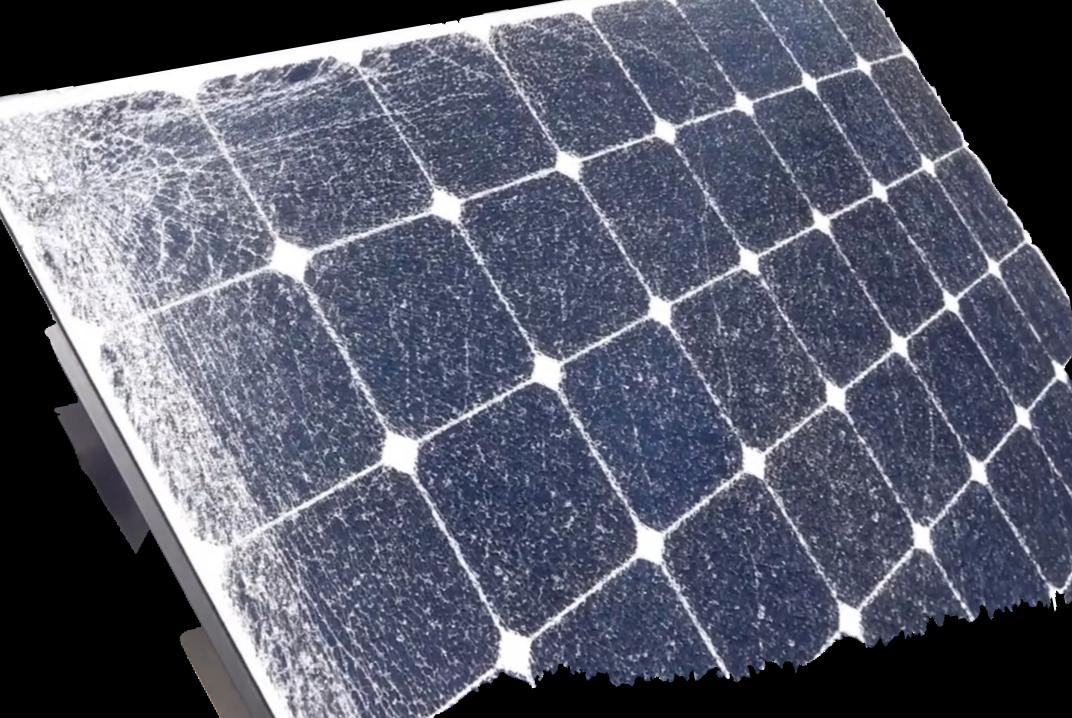Crack: (0, 54, 323, 391)
